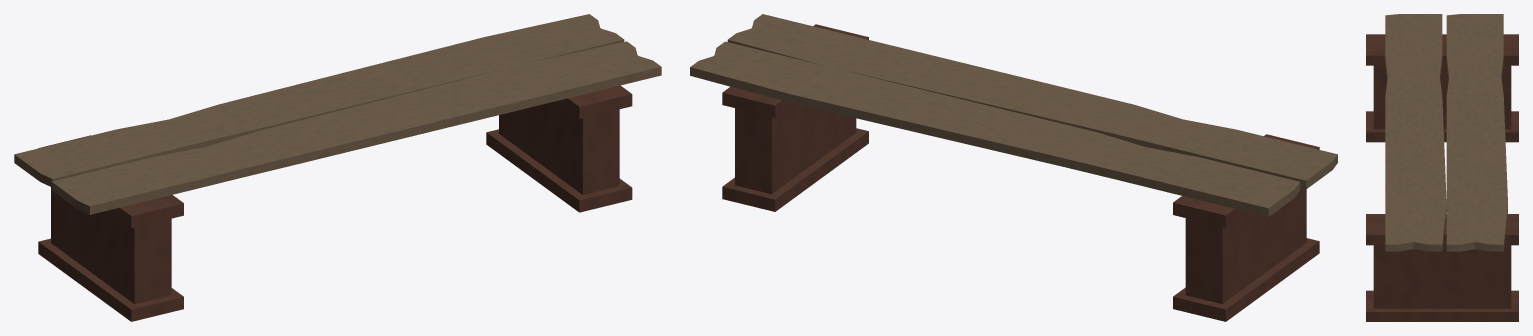
The model's file is Lavka.fbx.
3 views of the same model, side by side, from view 1: azimuth 30°, elevation 25°; view 2: azimuth 150°, elevation 25°; view 3: azimuth 270°, elevation 25° (orthographic). The views are drawn at different scales.
Visible parts, largest first — view 1: Cube.143; view 2: Cube.143; view 3: Cube.143.
Boxes of the visible parts, x1,y1,x2,y2 form: Cube.143: [14, 14, 661, 321]; Cube.143: [690, 14, 1337, 321]; Cube.143: [1366, 14, 1518, 321].
Size of the model in its own units: 324 by 61.63 by 90.83.
